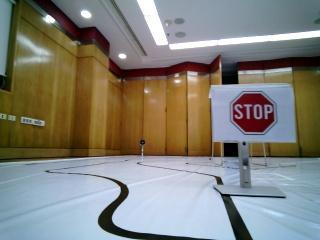stop: (204, 86, 298, 143)
